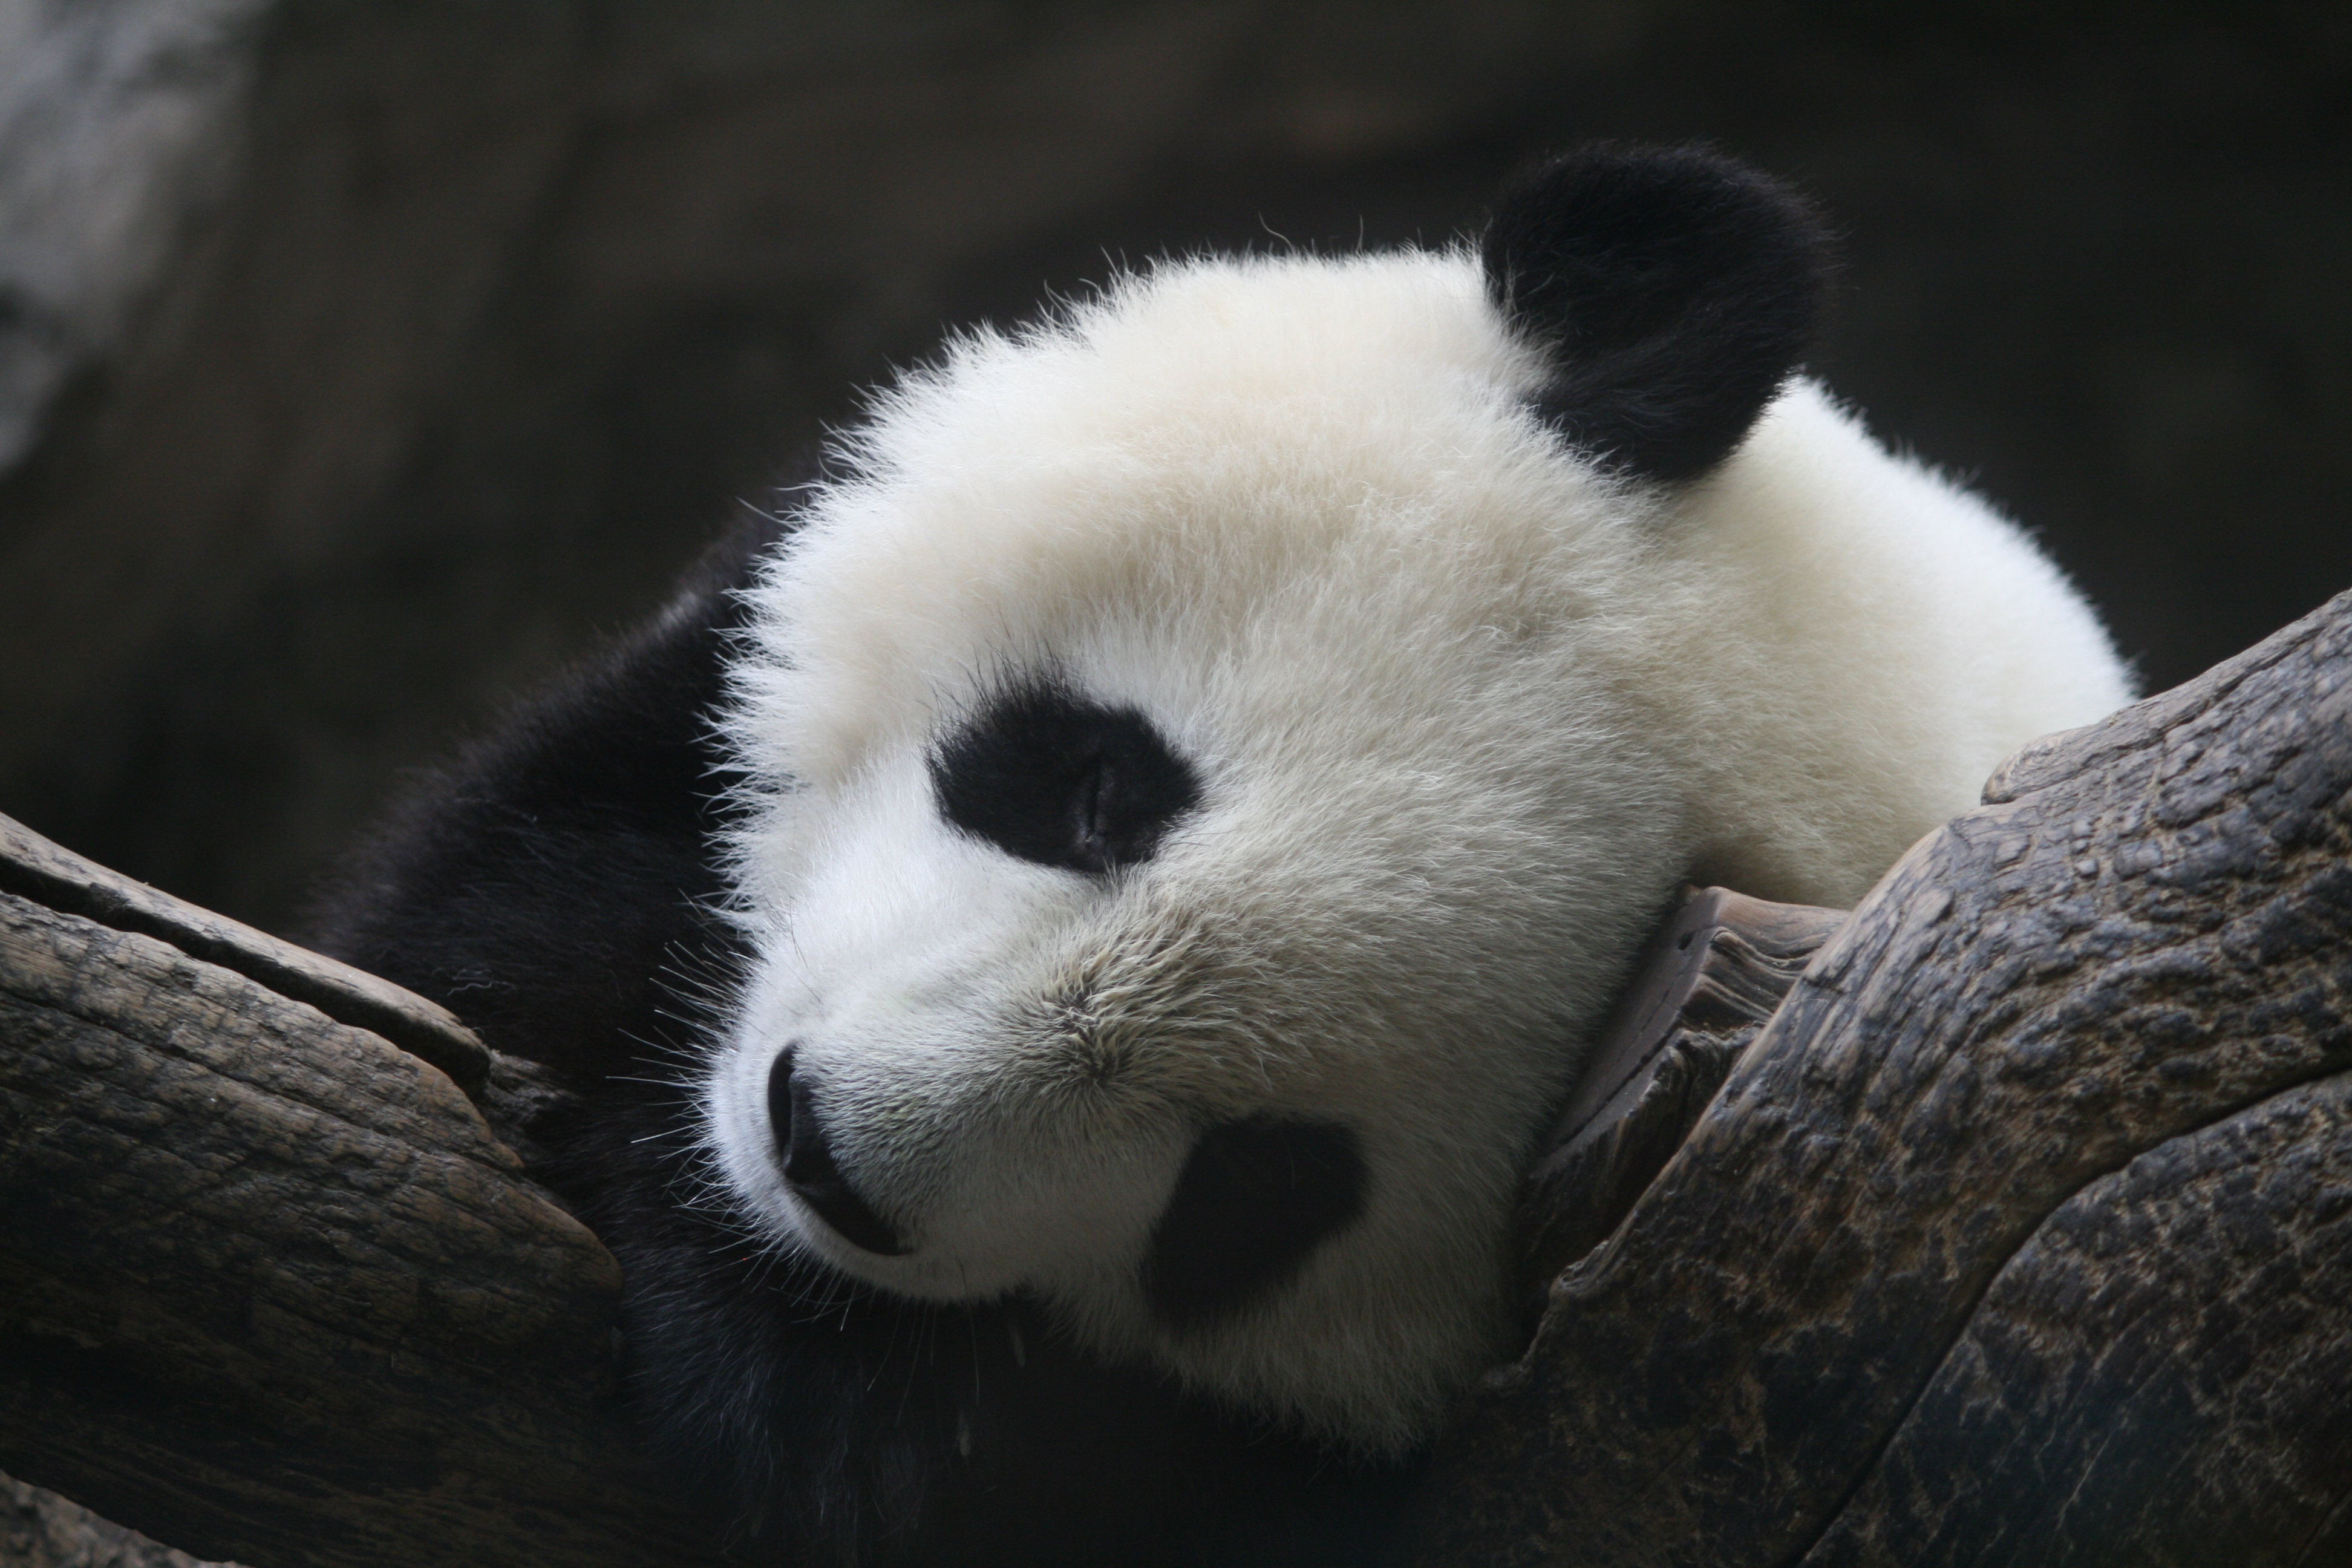panda: (273, 79, 2184, 1412)
